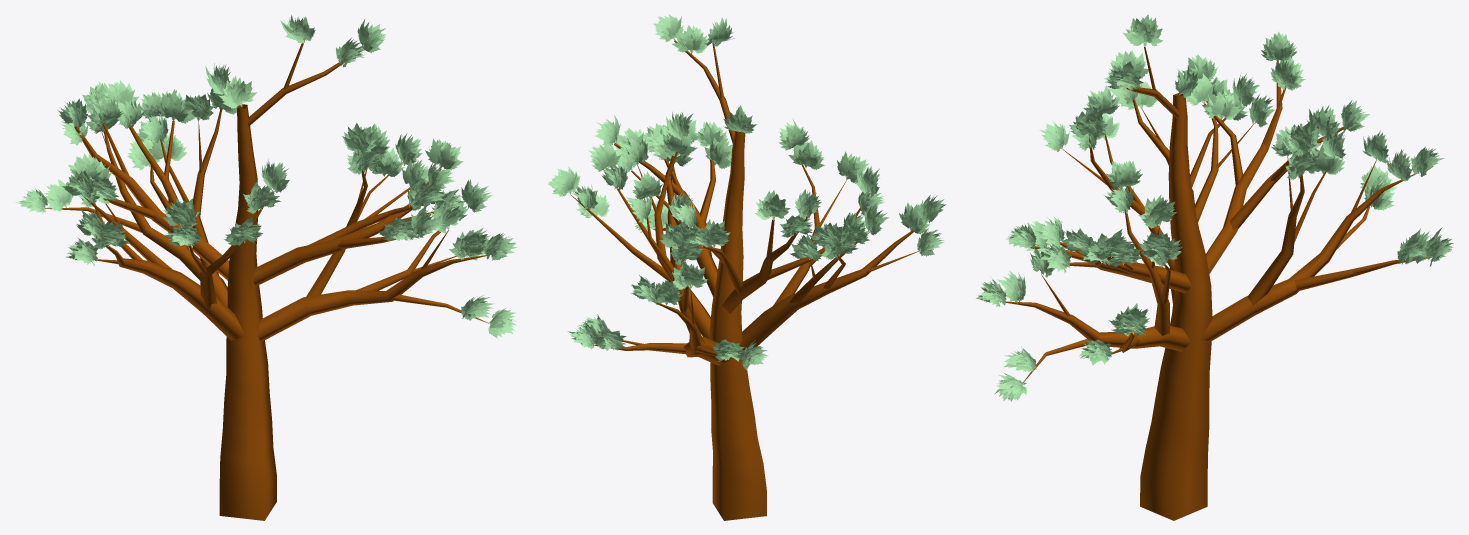
The model's file is FinalTree25.fbx.
3 views of the same model, side by side, from view 1: azimuth 30°, elevation 25°; view 2: azimuth 150°, elevation 25°; view 3: azimuth 270°, elevation 25° (orthographic). The views are drawn at different scales.
Parts seen in each view (by area): view 1: Árbol; view 2: Árbol; view 3: Árbol.
Part boxes in pixels (bbox=[...]): Árbol: bbox=[45, 38, 488, 520]; Árbol: bbox=[571, 40, 927, 520]; Árbol: bbox=[1005, 46, 1430, 520].
Size of the model in its own units: 532 by 605 by 519.
